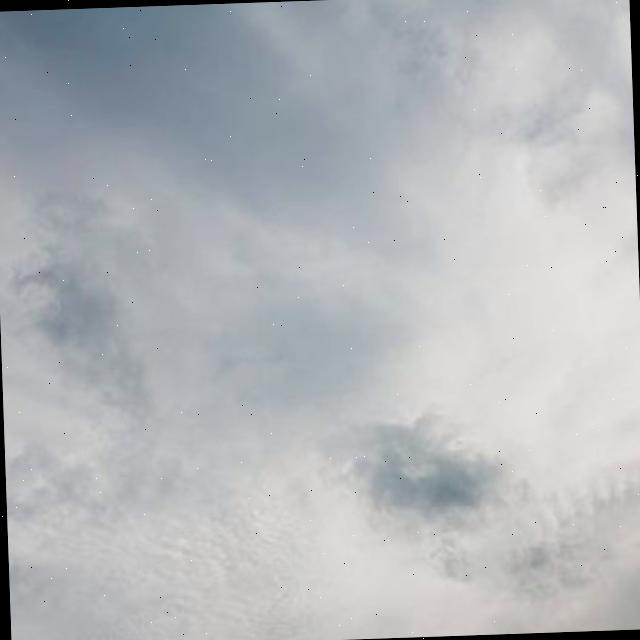Ns: (1, 12, 640, 640)
